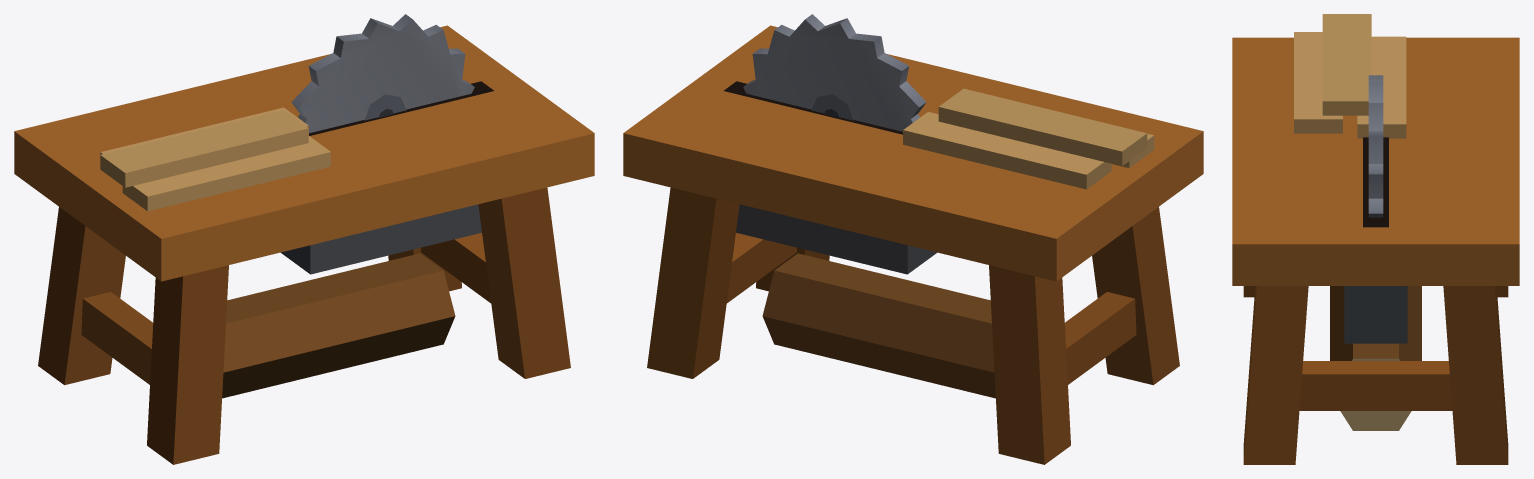
File: Sawmill_Table.glb
3 renders of one model, left to right at view 1: azimuth 30°, elevation 25°; view 2: azimuth 150°, elevation 25°; view 3: azimuth 270°, elevation 25°, orthographic. The views are drawn at different scales.
Parts seen in each view (by area): view 1: Sawmill_Table; view 2: Sawmill_Table; view 3: Sawmill_Table.
Boxes of the visible parts, x1,y1,x2,y2 form: Sawmill_Table: [14, 14, 594, 464]; Sawmill_Table: [623, 14, 1203, 464]; Sawmill_Table: [1232, 14, 1519, 464].
Bounding box in the file's own units: 1.7 × 1.23 × 1.
